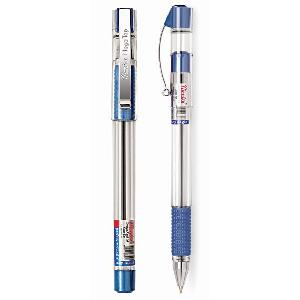pen: (155, 4, 199, 296), (108, 4, 143, 296)
